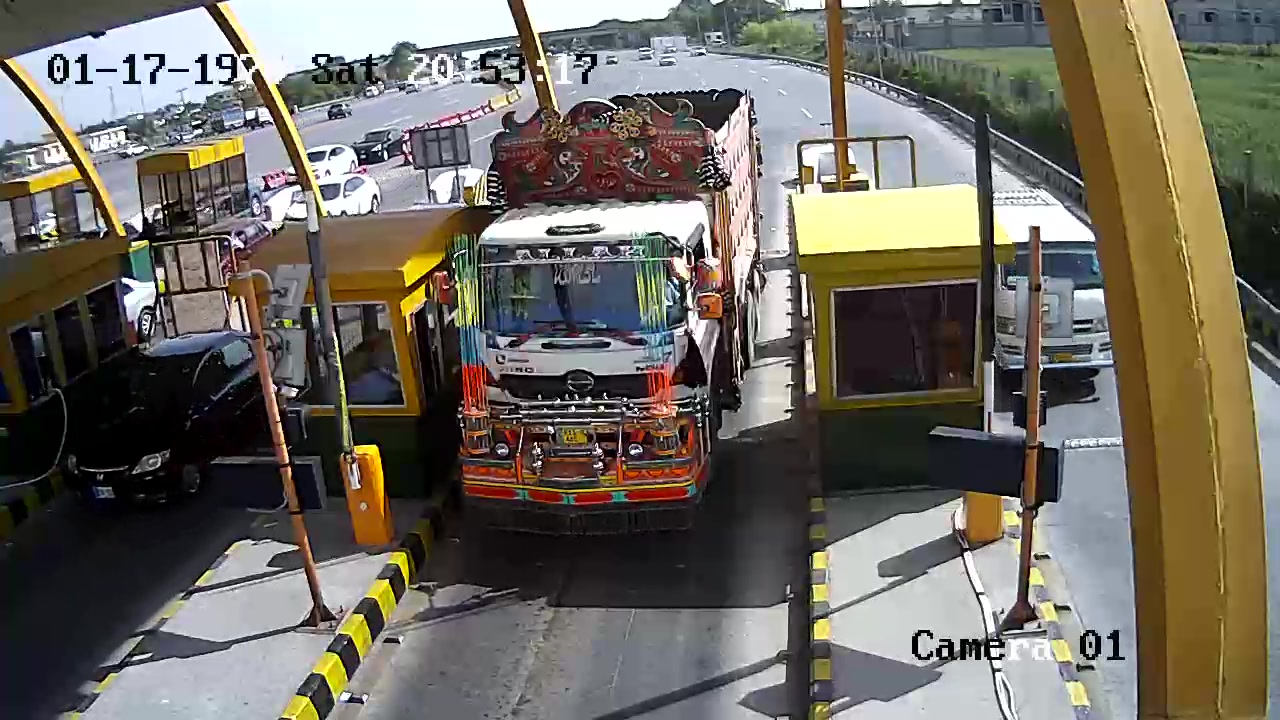F5: (458, 85, 761, 518)
